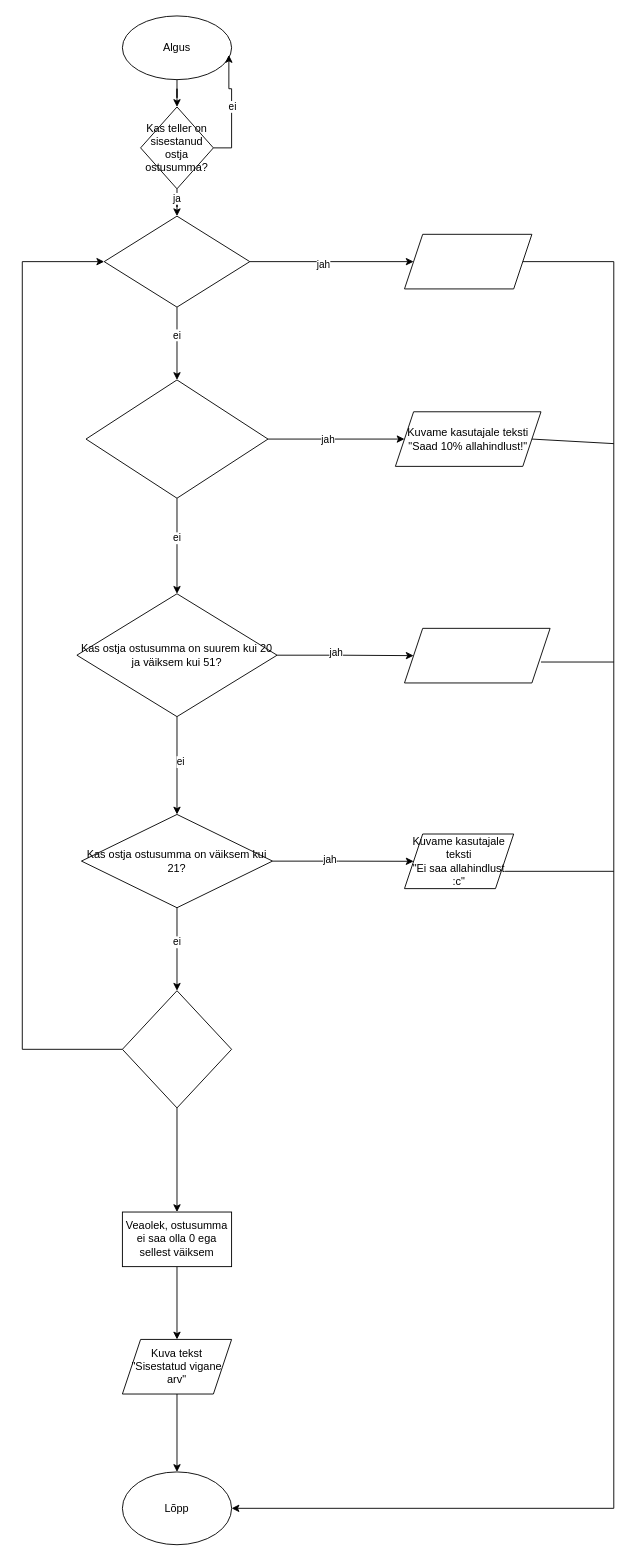
Some shapes in this 637 by 1561 pixel diagram are drawn without their labels. The box of each missing label's shape, as (x1, y1, x2, y2) in pixels:
Kas ostja ostusumma on suurem kui 100?: (103, 215, 250, 307)
Kas ostja ostusumma on suurem kui 50 ja väiksem kui 101?: (85, 379, 268, 498)
Kas ostja ostusumma on väiksem kui 1: (121, 990, 232, 1108)
Kuvame kasutajale teksti "Saad 20% allahindlust": (404, 233, 532, 289)
Kuvame kasutajale teksti "Saad 5% allahndlust!": (404, 627, 550, 683)
